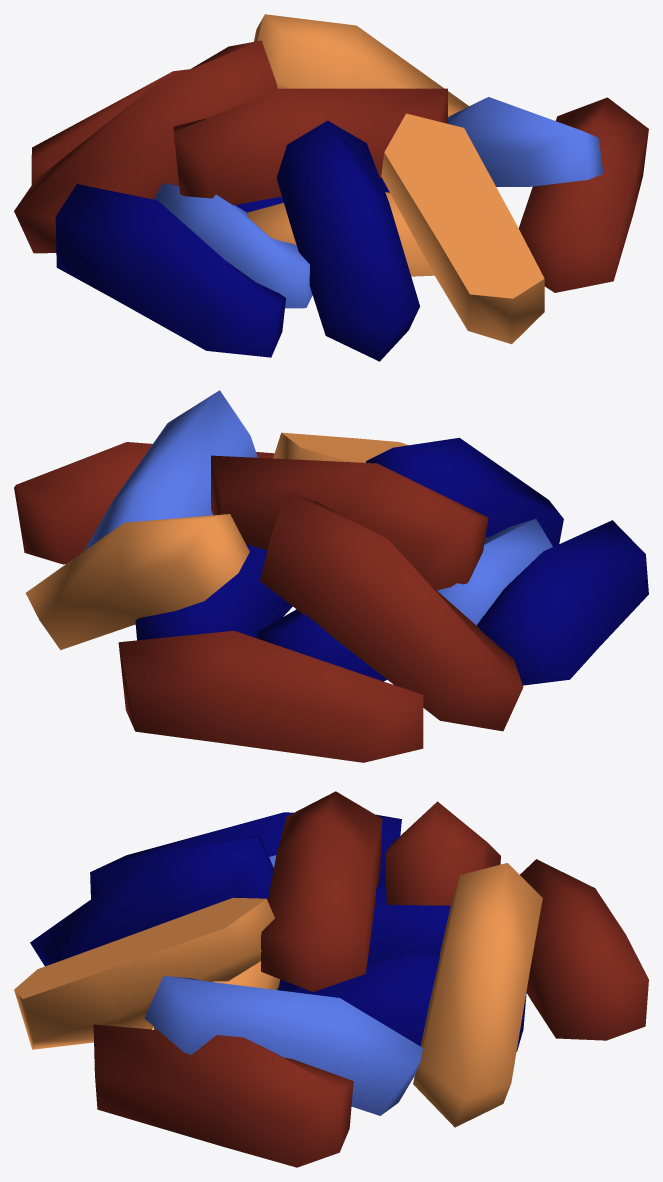
The model's file is PileofShoes_small.fbx.
3 renders of one model, top to bottom at view 1: azimuth 30°, elevation 25°; view 2: azimuth 150°, elevation 25°; view 3: azimuth 270°, elevation 25°, orthographic. The views are drawn at different scales.
Visible parts, largest first — view 1: mesh_OswiecimPassengers.014; view 2: mesh_OswiecimPassengers.014; view 3: mesh_OswiecimPassengers.014.
Part boxes in pixels (x1,y1,x2,y2): mesh_OswiecimPassengers.014: (14, 14, 648, 361); mesh_OswiecimPassengers.014: (14, 390, 648, 762); mesh_OswiecimPassengers.014: (14, 791, 648, 1167).
Bounding box in the file's own units: 41.37 × 13.47 × 44.24.
